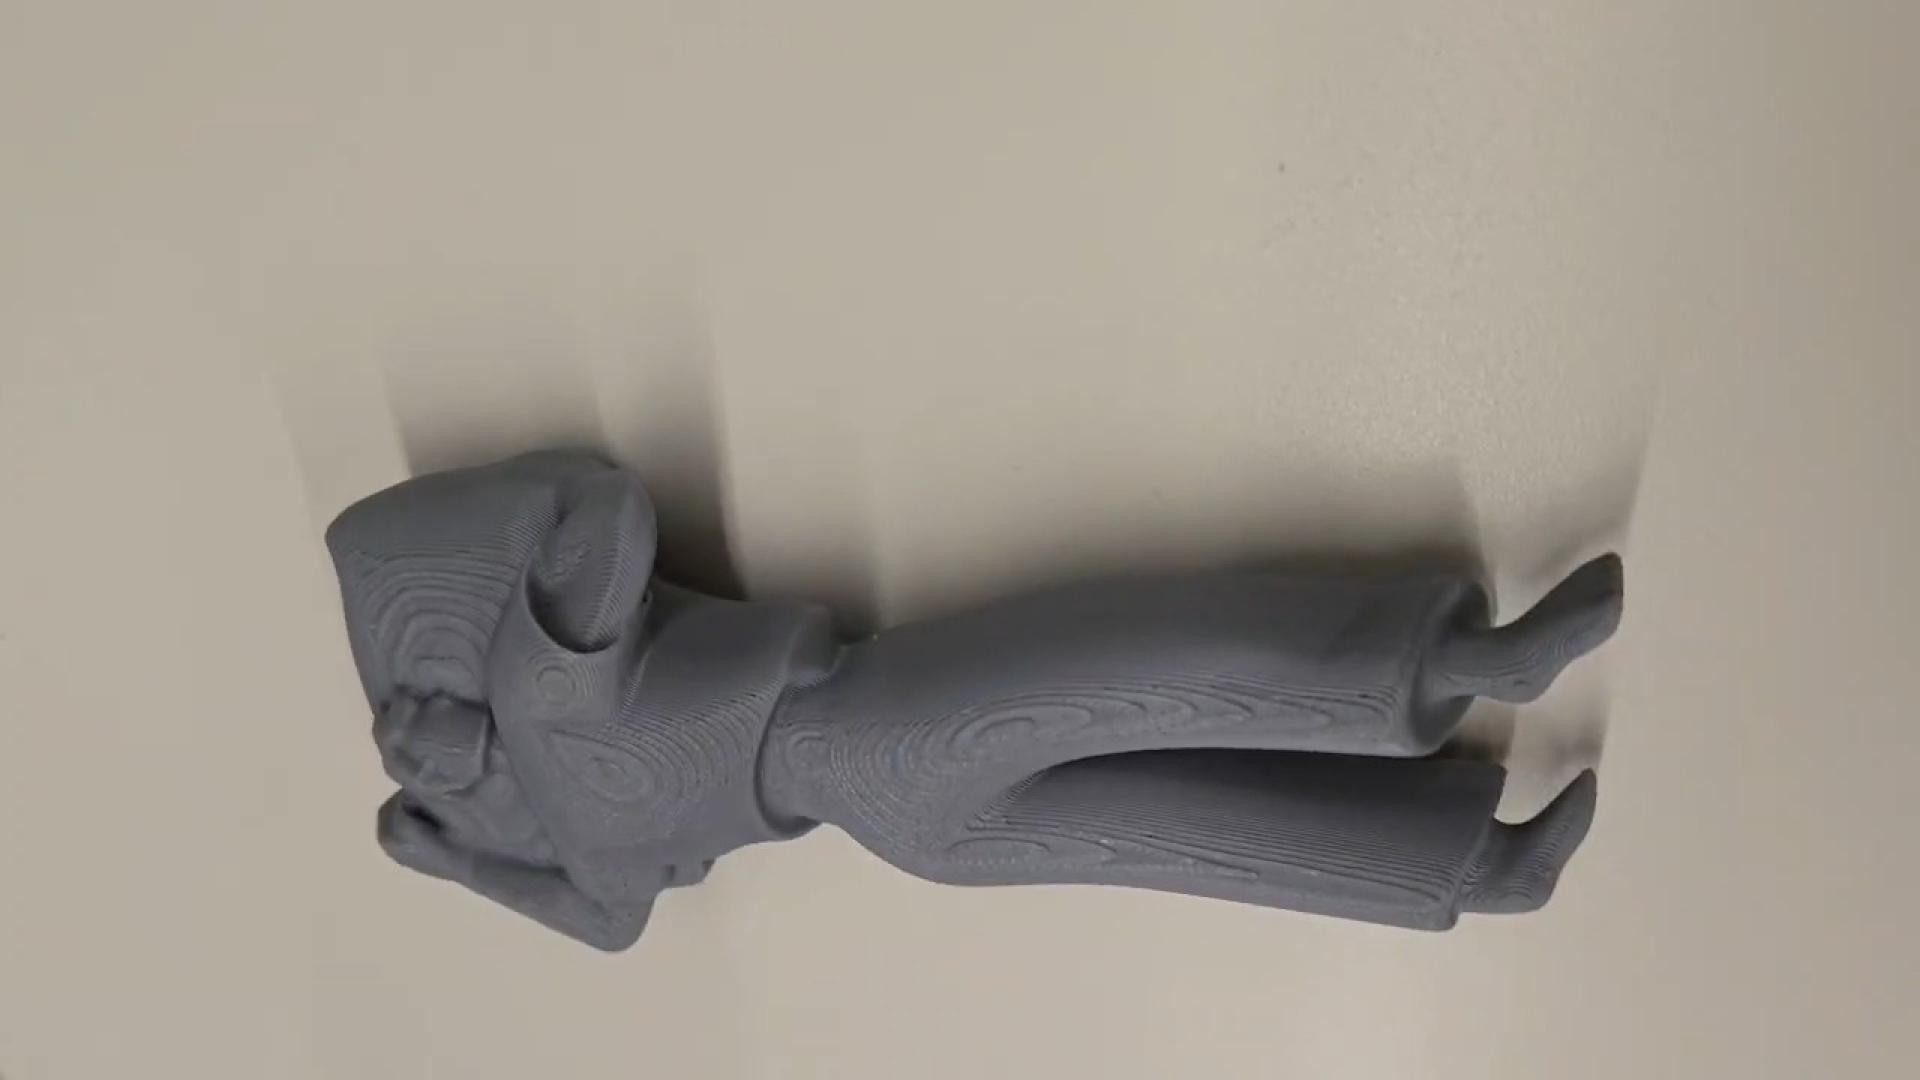Bad-style: (330, 434, 1636, 957)
